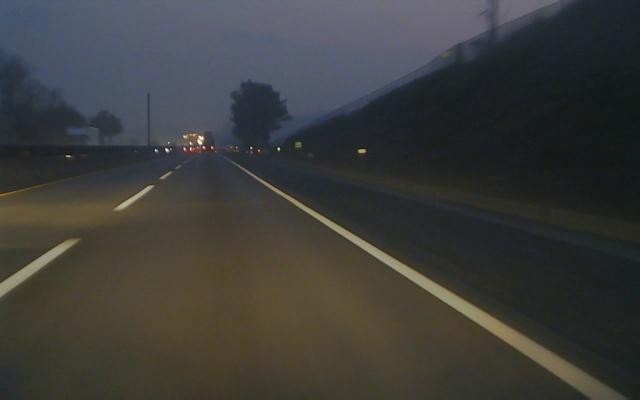lane: (241, 165, 636, 400), (0, 159, 191, 300)
